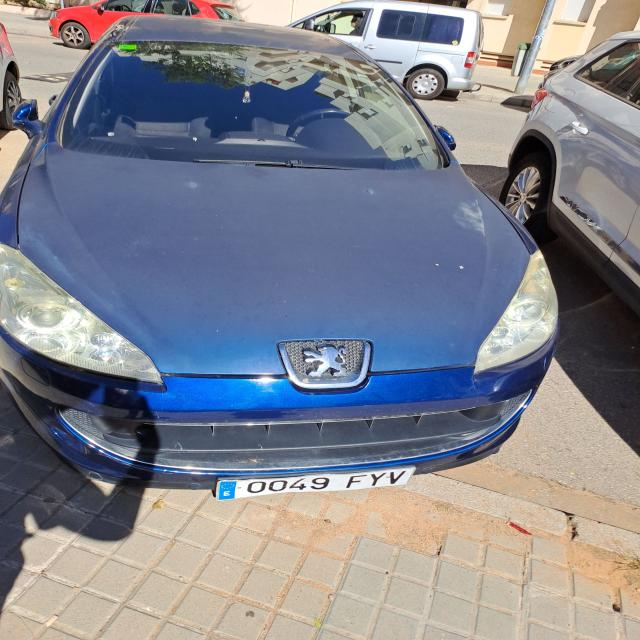license_plate-34Td: (216, 467, 415, 500)
